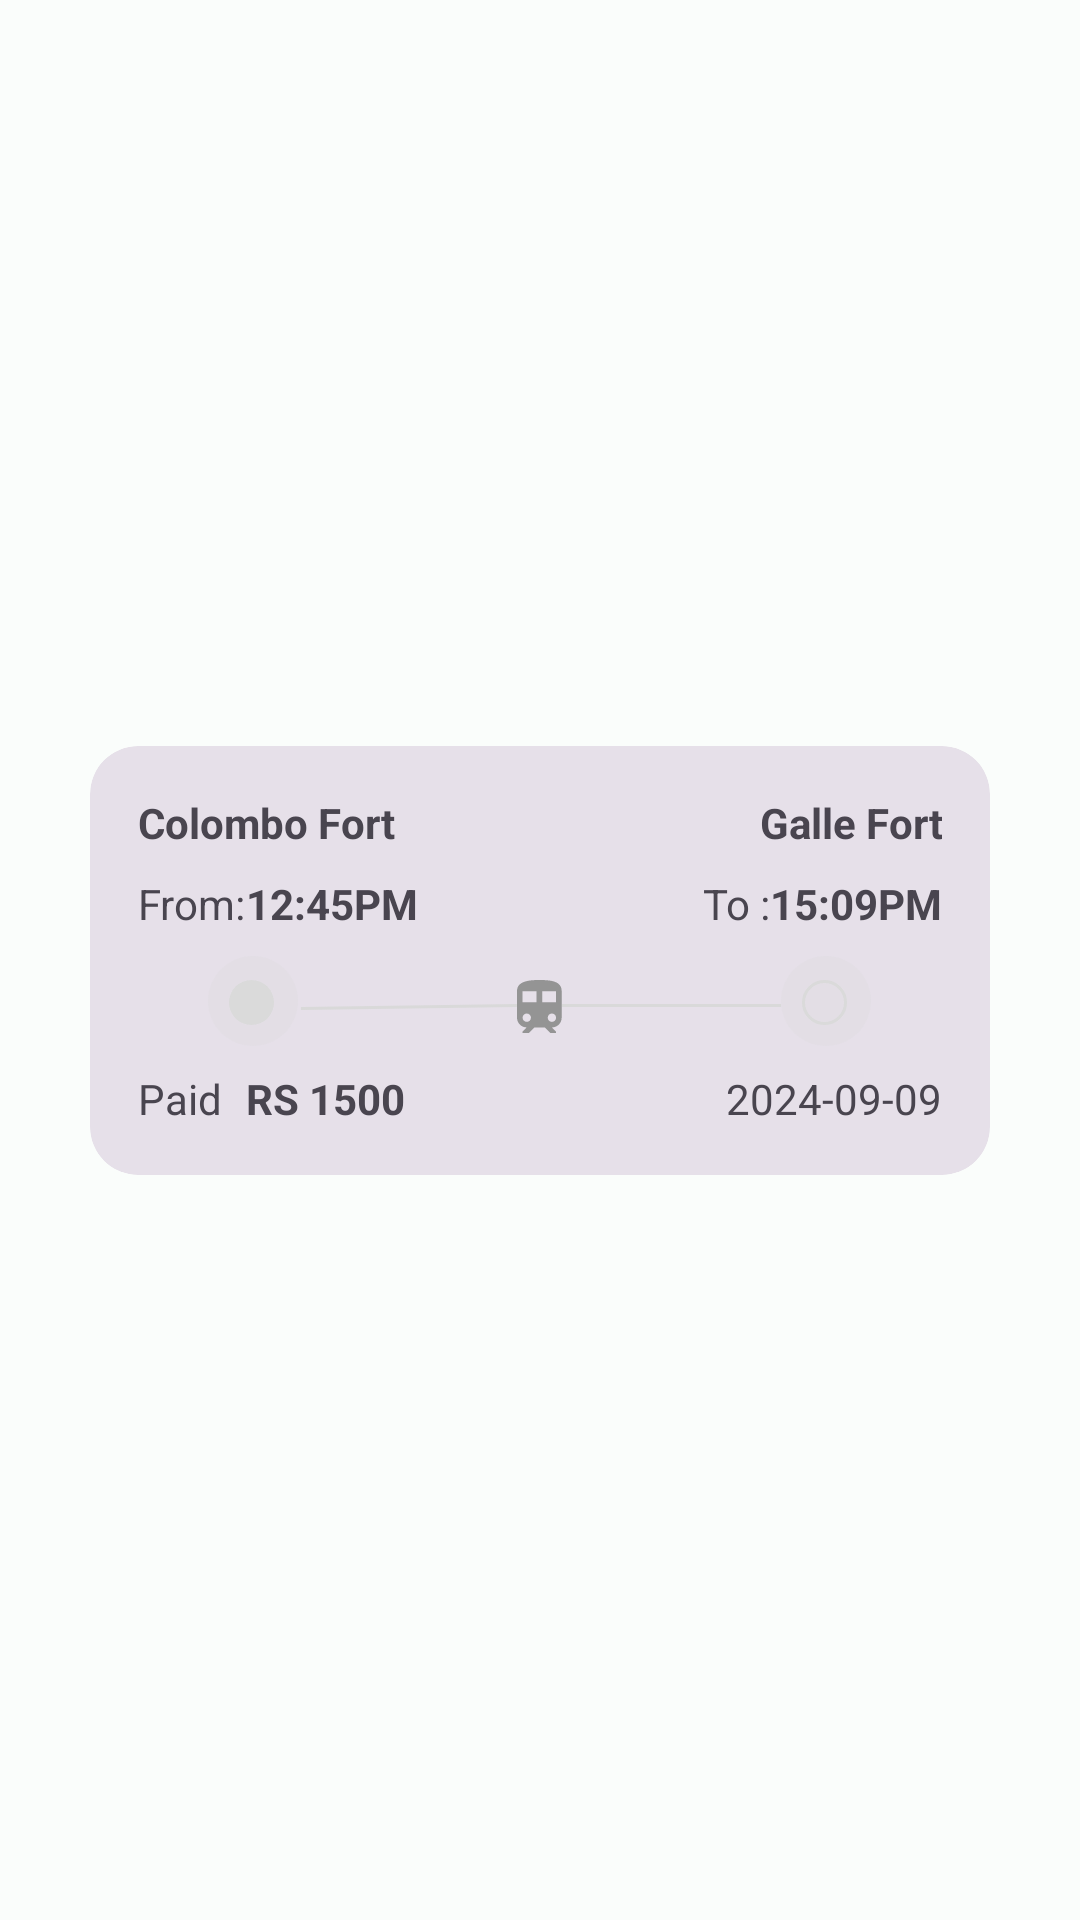

Locate icon controls on the screen. Image size 1080px x 1920px, boxes as [x1, y1, x2, y2].
train mark: [517, 980, 562, 1033]
